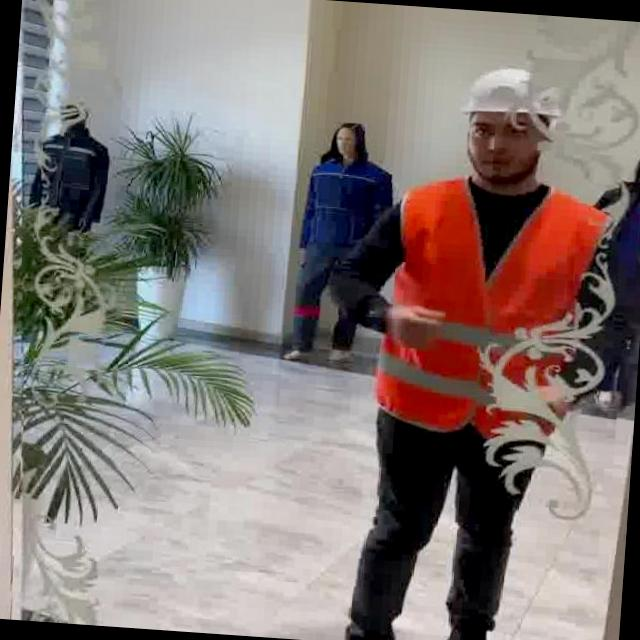vest: (368, 168, 621, 444)
